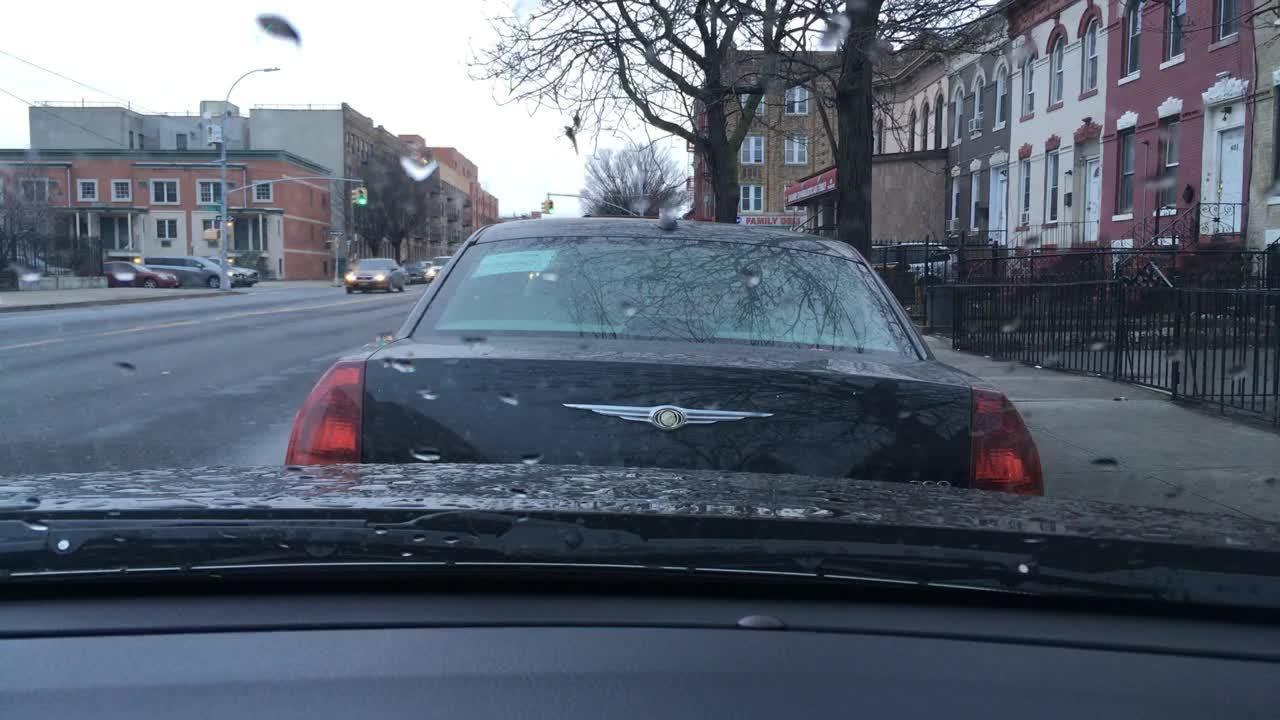Chrysler: (562, 398, 779, 433)
